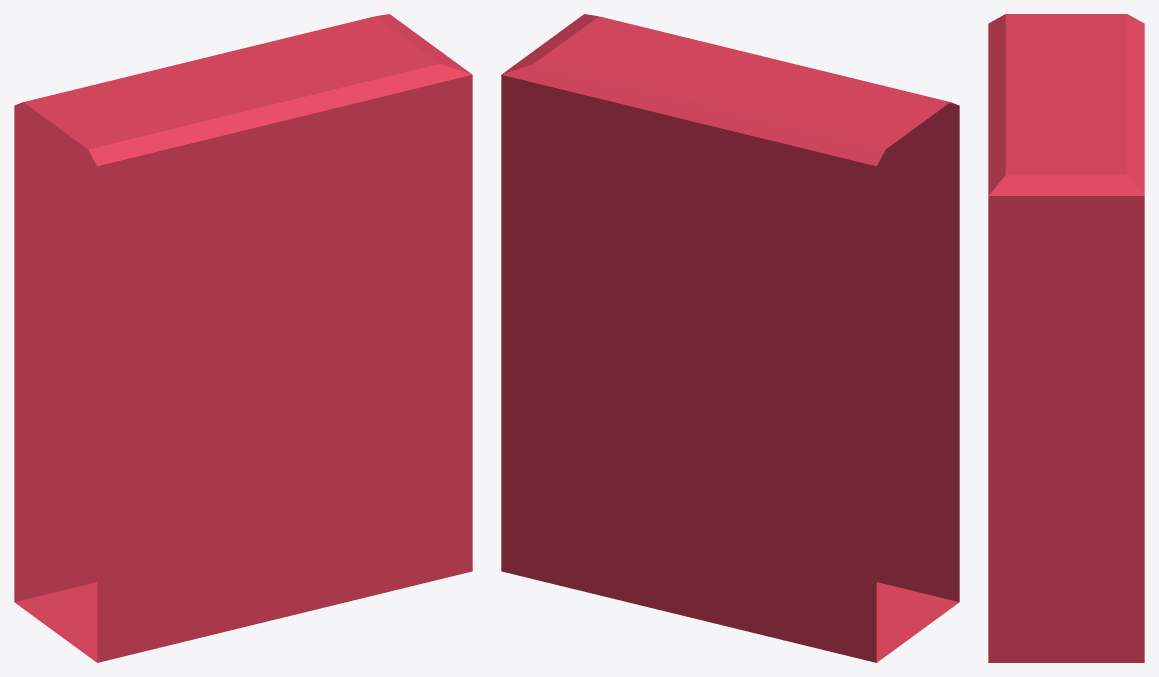
Rendered from Itr_Couch_Outside_Back_Right_01.FBX.
3 renders of one model, left to right at view 1: azimuth 30°, elevation 25°; view 2: azimuth 150°, elevation 25°; view 3: azimuth 270°, elevation 25°, orthographic. The views are drawn at different scales.
Visible parts, largest first — view 1: Itr_Couch_Outside_Back_Right_01; view 2: Itr_Couch_Outside_Back_Right_01; view 3: Itr_Couch_Outside_Back_Right_01.
Part boxes in pixels (bbox=[...]): Itr_Couch_Outside_Back_Right_01: bbox=[14, 14, 472, 662]; Itr_Couch_Outside_Back_Right_01: bbox=[501, 14, 959, 662]; Itr_Couch_Outside_Back_Right_01: bbox=[988, 14, 1144, 662].
Size of the model in its own units: 18.79 by 24.24 by 7.19.
